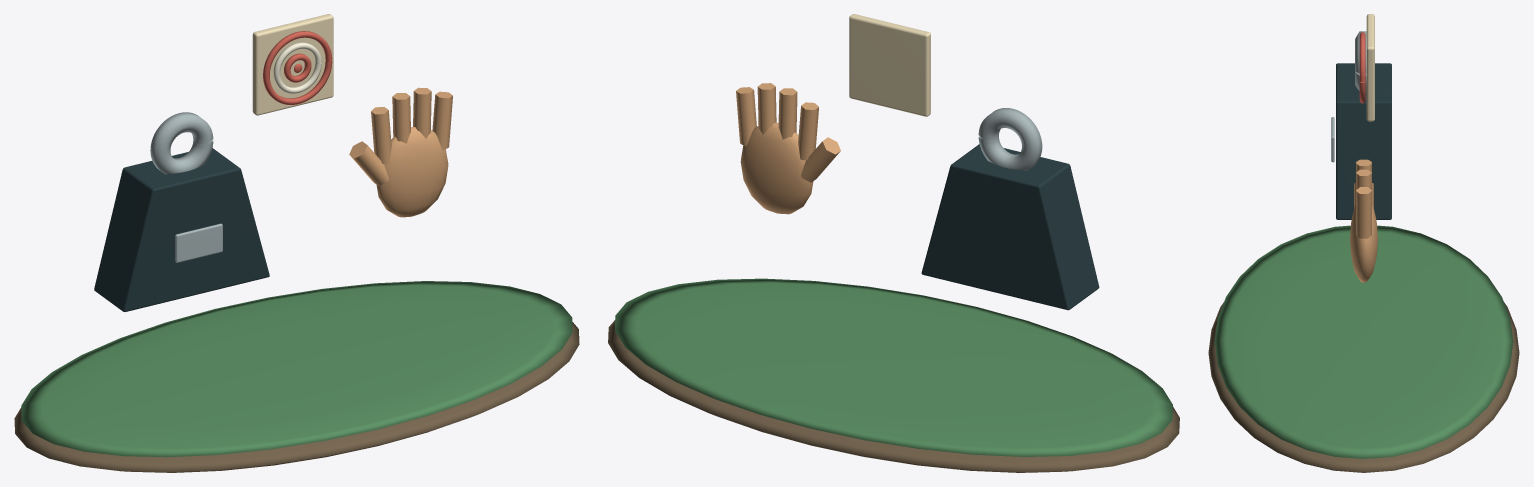
Rendered from complete-first-important-weight.glb.
3 views of the same model, side by side, from view 1: azimuth 30°, elevation 25°; view 2: azimuth 150°, elevation 25°; view 3: azimuth 270°, elevation 25° (orthographic). The views are drawn at different scales.
Parts seen in each view (by area): view 1: complete-first-important-weight_surface_01, complete-first-important-weight_surface_02, complete-first-important-weight_surface_00, complete-first-important-weight_surface_04, complete-first-important-weight_surface_05, complete-first-important-weight_surface_03, complete-first-important-weight_surface_06, complete-first-important-weight_surface_07; view 2: complete-first-important-weight_surface_01, complete-first-important-weight_surface_02, complete-first-important-weight_surface_00, complete-first-important-weight_surface_04, complete-first-important-weight_surface_05, complete-first-important-weight_surface_03; view 3: complete-first-important-weight_surface_01, complete-first-important-weight_surface_02, complete-first-important-weight_surface_00, complete-first-important-weight_surface_04, complete-first-important-weight_surface_05, complete-first-important-weight_surface_03, complete-first-important-weight_surface_06.
Part boxes in pixels (bbox=[...]): complete-first-important-weight_surface_01: bbox=[21, 281, 572, 457]; complete-first-important-weight_surface_02: bbox=[94, 148, 269, 311]; complete-first-important-weight_surface_00: bbox=[14, 322, 579, 472]; complete-first-important-weight_surface_04: bbox=[349, 87, 452, 217]; complete-first-important-weight_surface_05: bbox=[252, 14, 333, 115]; complete-first-important-weight_surface_03: bbox=[150, 112, 222, 262]; complete-first-important-weight_surface_06: bbox=[263, 31, 332, 104]; complete-first-important-weight_surface_07: bbox=[273, 42, 321, 93]; complete-first-important-weight_surface_01: bbox=[615, 278, 1172, 456]; complete-first-important-weight_surface_02: bbox=[921, 144, 1099, 310]; complete-first-important-weight_surface_00: bbox=[608, 320, 1179, 472]; complete-first-important-weight_surface_04: bbox=[736, 83, 840, 214]; complete-first-important-weight_surface_05: bbox=[849, 14, 930, 116]; complete-first-important-weight_surface_03: bbox=[978, 108, 1042, 170]; complete-first-important-weight_surface_01: bbox=[1214, 225, 1513, 458]; complete-first-important-weight_surface_02: bbox=[1336, 63, 1391, 219]; complete-first-important-weight_surface_00: bbox=[1208, 302, 1519, 472]; complete-first-important-weight_surface_04: bbox=[1350, 159, 1377, 282]; complete-first-important-weight_surface_05: bbox=[1366, 14, 1374, 121]; complete-first-important-weight_surface_03: bbox=[1331, 31, 1366, 162]; complete-first-important-weight_surface_06: bbox=[1359, 32, 1365, 103].
Size of the model in its own units: 4.56 by 2.99 by 2.5.
